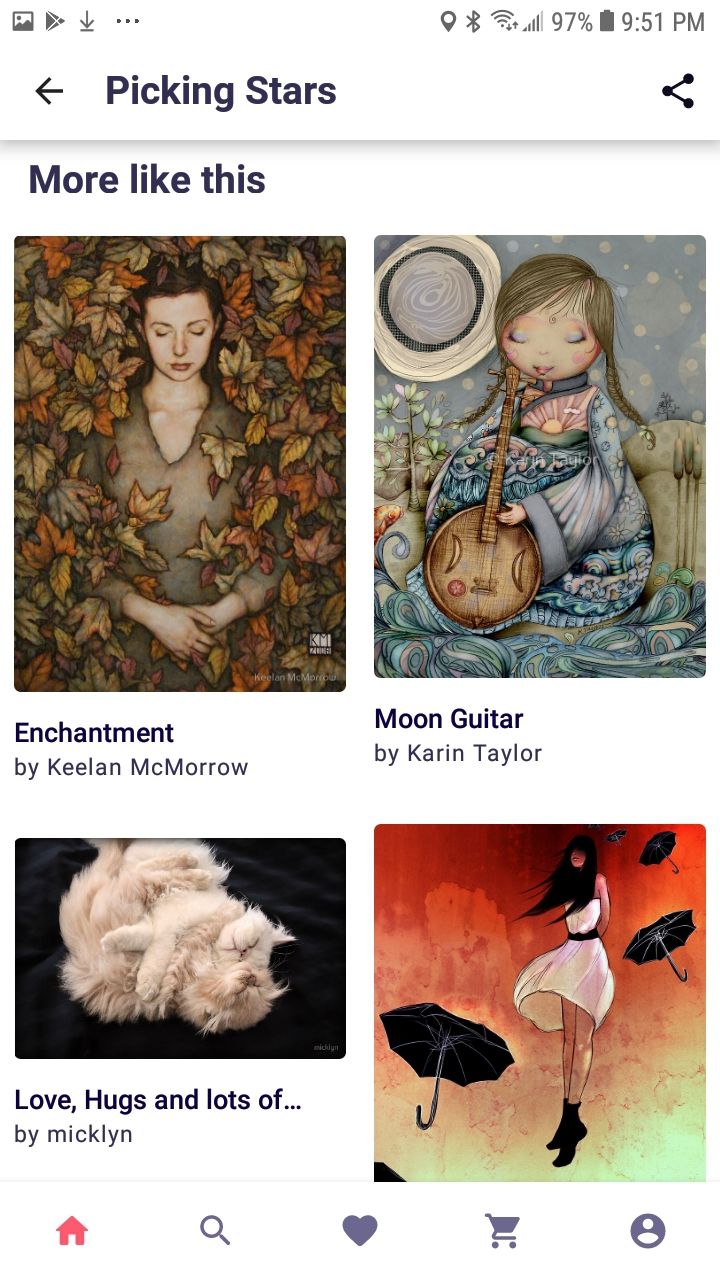Icon: (485, 1213, 521, 1249), (630, 1213, 666, 1249), (661, 73, 695, 110), (343, 1214, 379, 1246), (56, 1216, 89, 1246), (200, 1214, 231, 1245), (34, 76, 64, 106)
Image: (14, 236, 347, 693), (374, 236, 706, 679), (373, 824, 706, 1182), (15, 838, 347, 1060)
Text: (107, 75, 338, 114), (16, 1087, 302, 1115), (30, 164, 266, 195), (15, 758, 249, 781), (375, 743, 542, 767), (16, 721, 175, 744), (375, 708, 524, 730), (15, 1124, 133, 1148)
UpperTaskBar: (1, 1, 720, 33)
